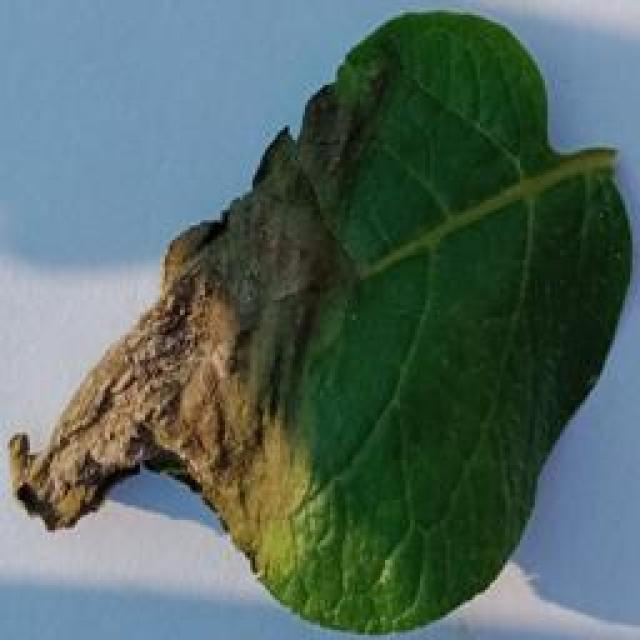Potato_Late_Blight: (8, 9, 620, 632)
